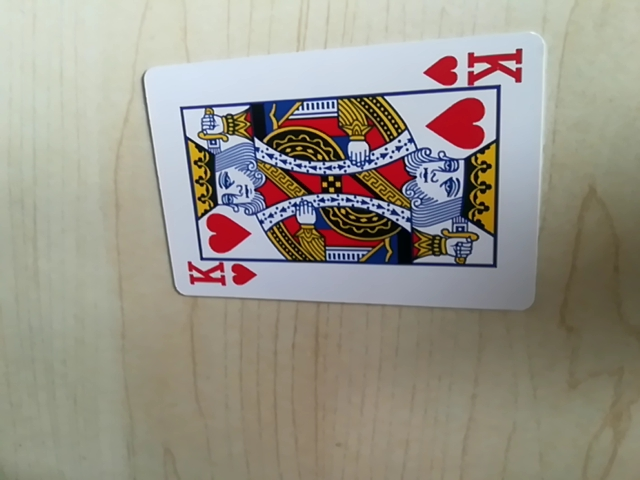hx k: (423, 48, 526, 92), (181, 259, 259, 295)
